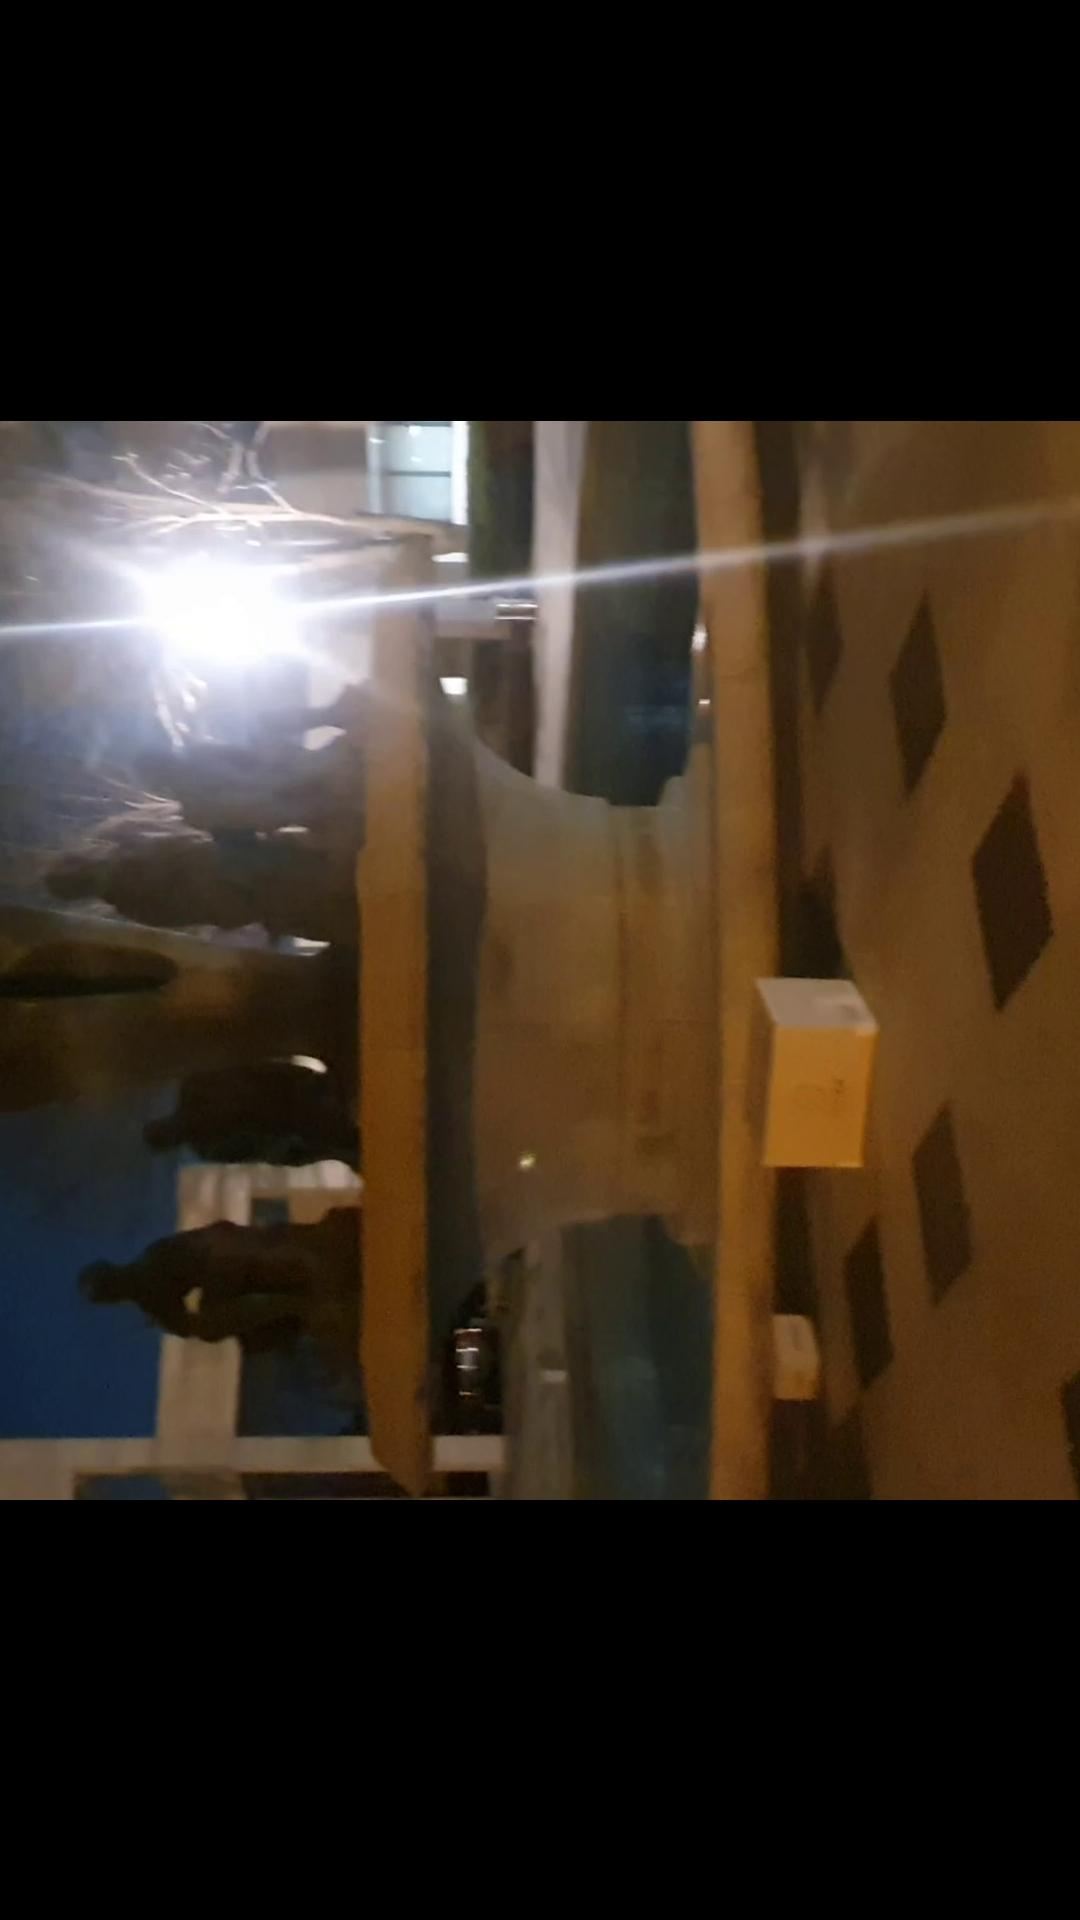Box: (735, 985, 877, 1174), (756, 1307, 815, 1408)
